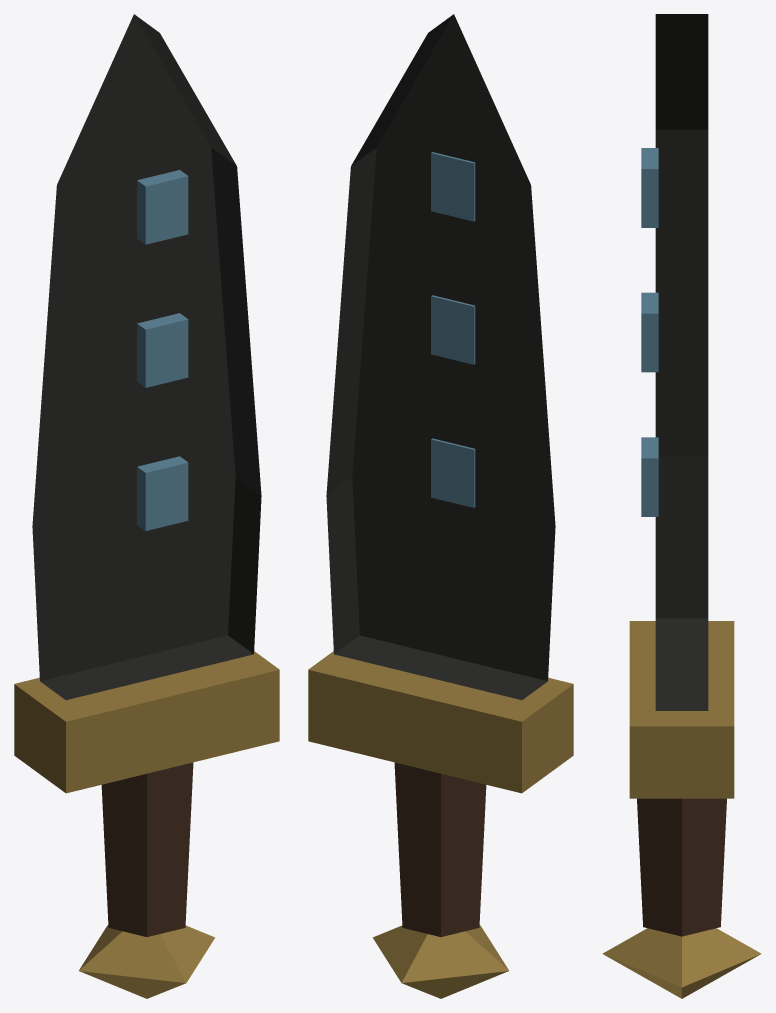
The model's file is rune_knife.obj.
3 renders of one model, left to right at view 1: azimuth 30°, elevation 25°; view 2: azimuth 150°, elevation 25°; view 3: azimuth 270°, elevation 25°, orthographic.
Visible parts, largest first — view 1: rune_knife; view 2: rune_knife; view 3: rune_knife.
Part boxes in pixels (box(x1,y1,x2,y2)): rune_knife: box(14, 14, 279, 998); rune_knife: box(308, 14, 573, 998); rune_knife: box(602, 14, 761, 998).
Size of the model in its own units: 0.5 by 2.18 by 0.32.
